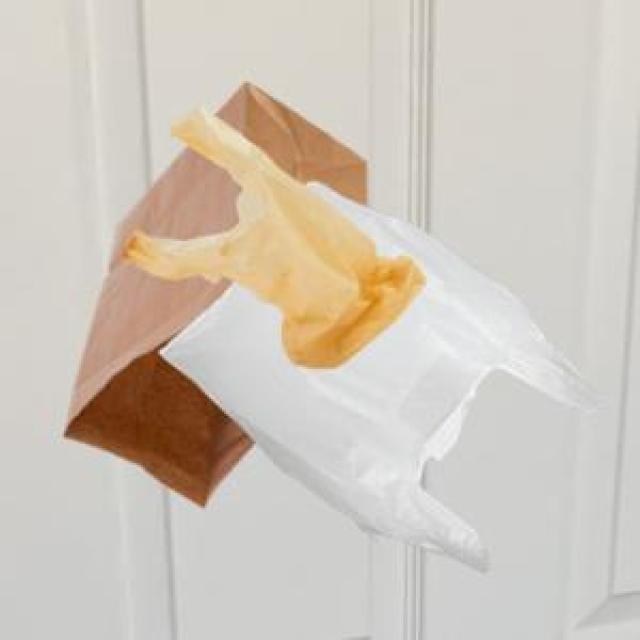paper: (60, 79, 363, 504)
